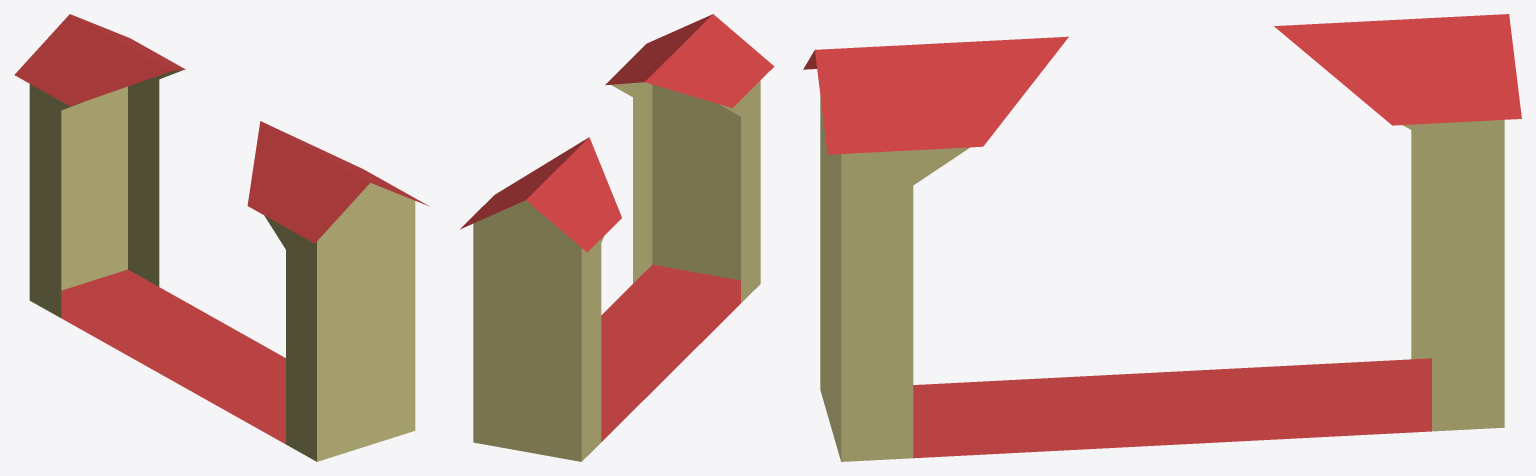
3 views of the same model, side by side, from view 1: azimuth 30°, elevation 25°; view 2: azimuth 150°, elevation 25°; view 3: azimuth 270°, elevation 25° (orthographic). The views are drawn at different scales.
Bounding box in the file's own units: 9.22 × 23.17 × 13.34.
